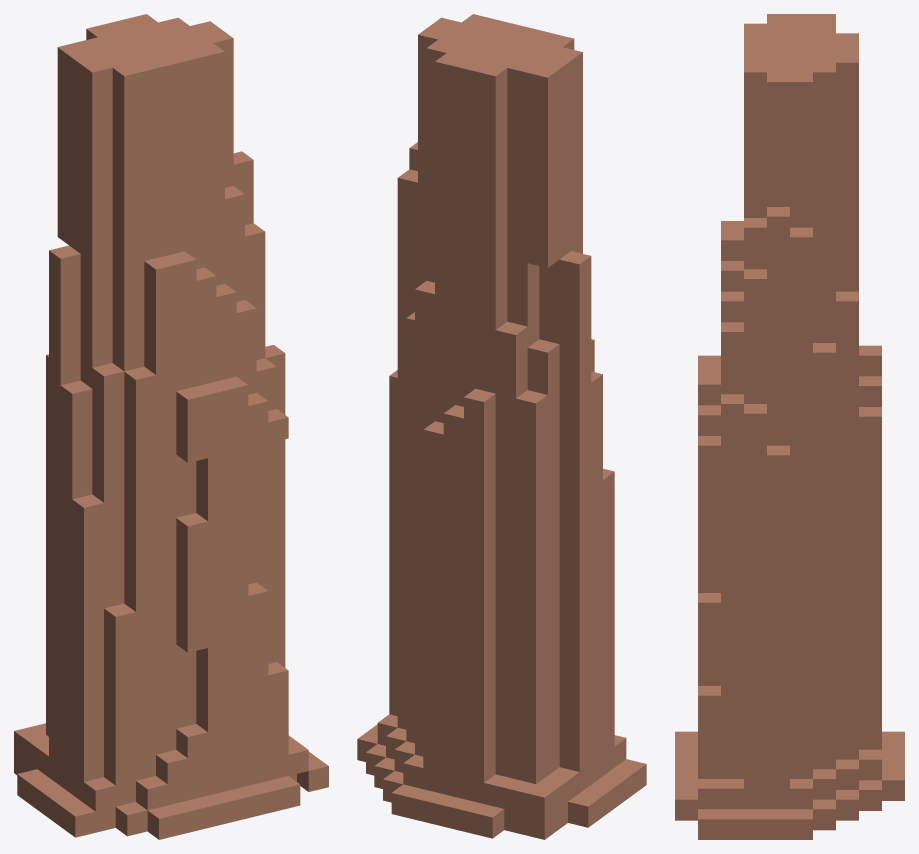
The model's file is arbols_uvs.fbx.
3 views of the same model, side by side, from view 1: azimuth 30°, elevation 25°; view 2: azimuth 150°, elevation 25°; view 3: azimuth 270°, elevation 25° (orthographic).
Parts seen in each view (by area): view 1: arblo_okay_12x35x10; view 2: arblo_okay_12x35x10; view 3: arblo_okay_12x35x10.
Boxes of the visible parts, x1=… form: arblo_okay_12x35x10: x1=14, y1=14, x2=328, y2=839; arblo_okay_12x35x10: x1=357, y1=14, x2=646, y2=839; arblo_okay_12x35x10: x1=675, y1=14, x2=904, y2=839.
Bounding box in the file's own units: 353 × 1029 × 294.
